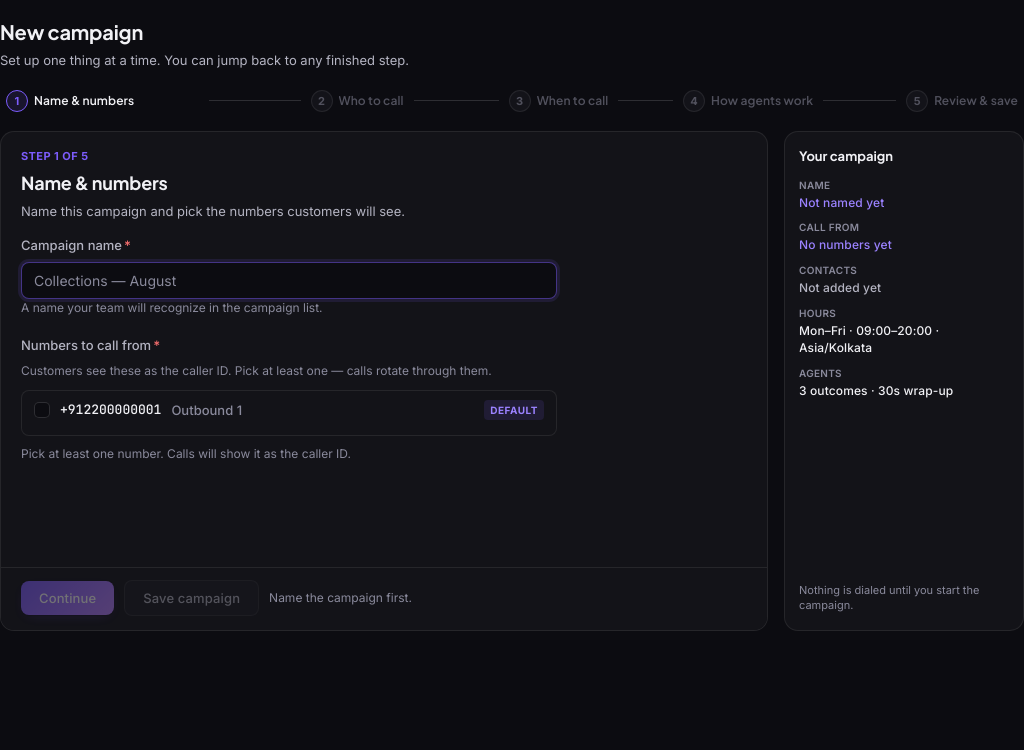
Scenario: the guided setup path › saves from review and offers a way into the draft
The image size is (1024, 750).
Step 1. Type "Collections" into the field labelled "Campaign name*" → [289, 280], box [21,262,557,299]
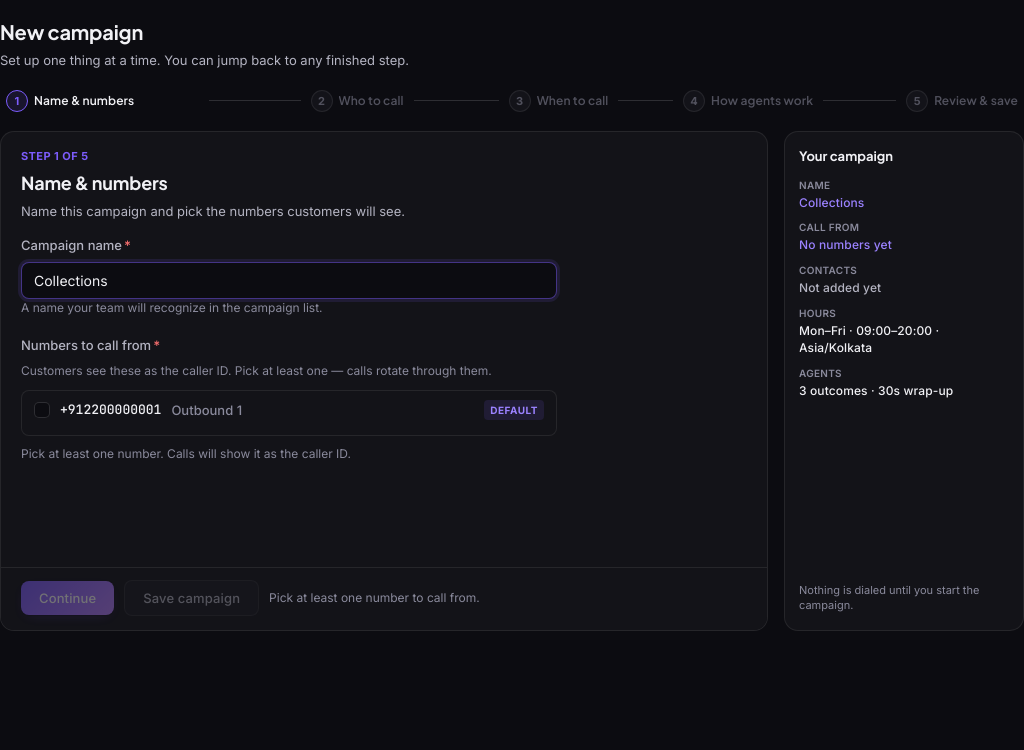
Step 2. Click the checkbox labelled "+912200000001 Outbound 1 Default" → [42, 410], box [34,402,50,418]
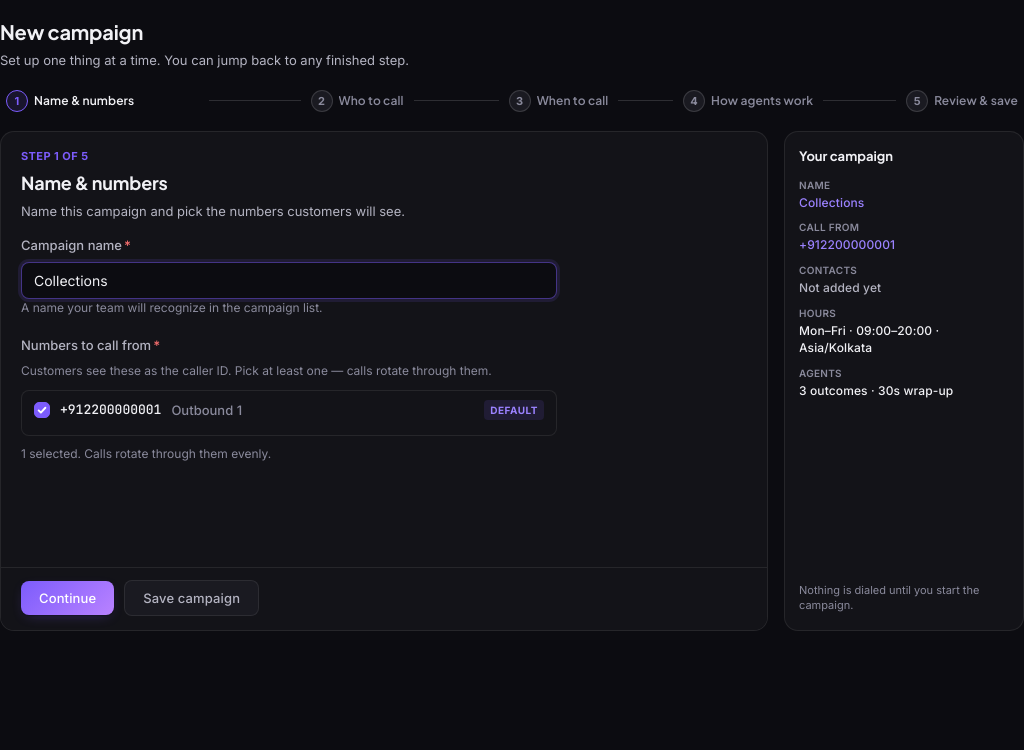
Step 3. Click the button "5 Review & save" → [962, 101], box [900,85,1023,117]
(page scrolled)
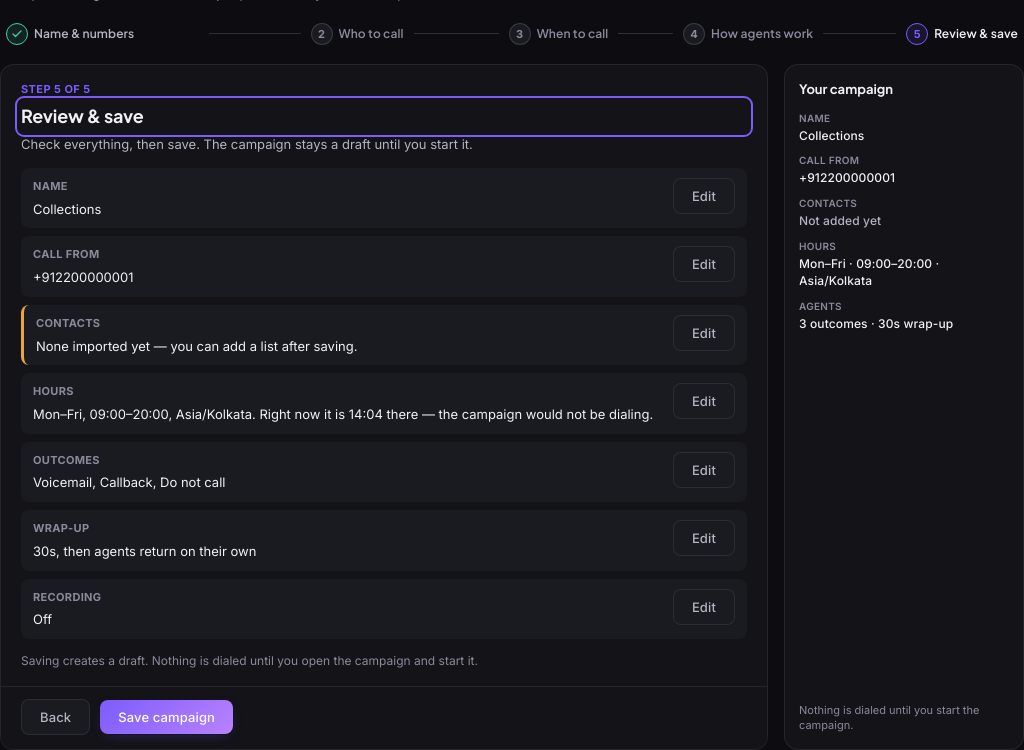
Step 4. Click the button "Save campaign" → [167, 717], box [100,700,233,734]
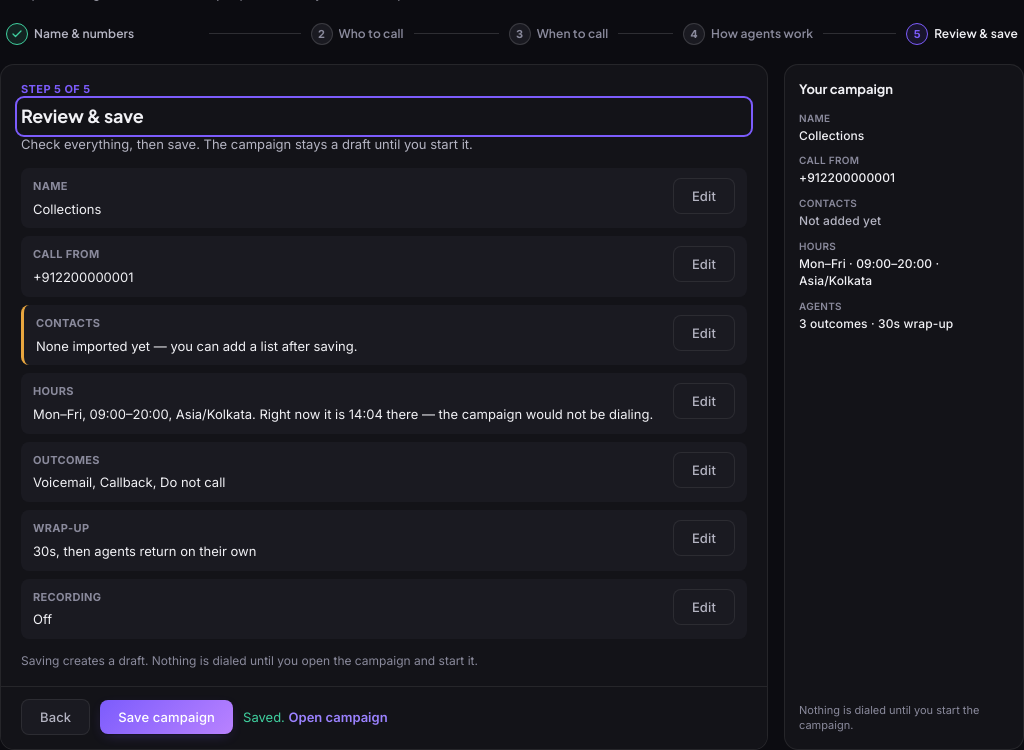
Now the link "Open campaign" is shown, box [288,709,388,725]
Now the text "Saved." is shown, box [243,709,285,725]
